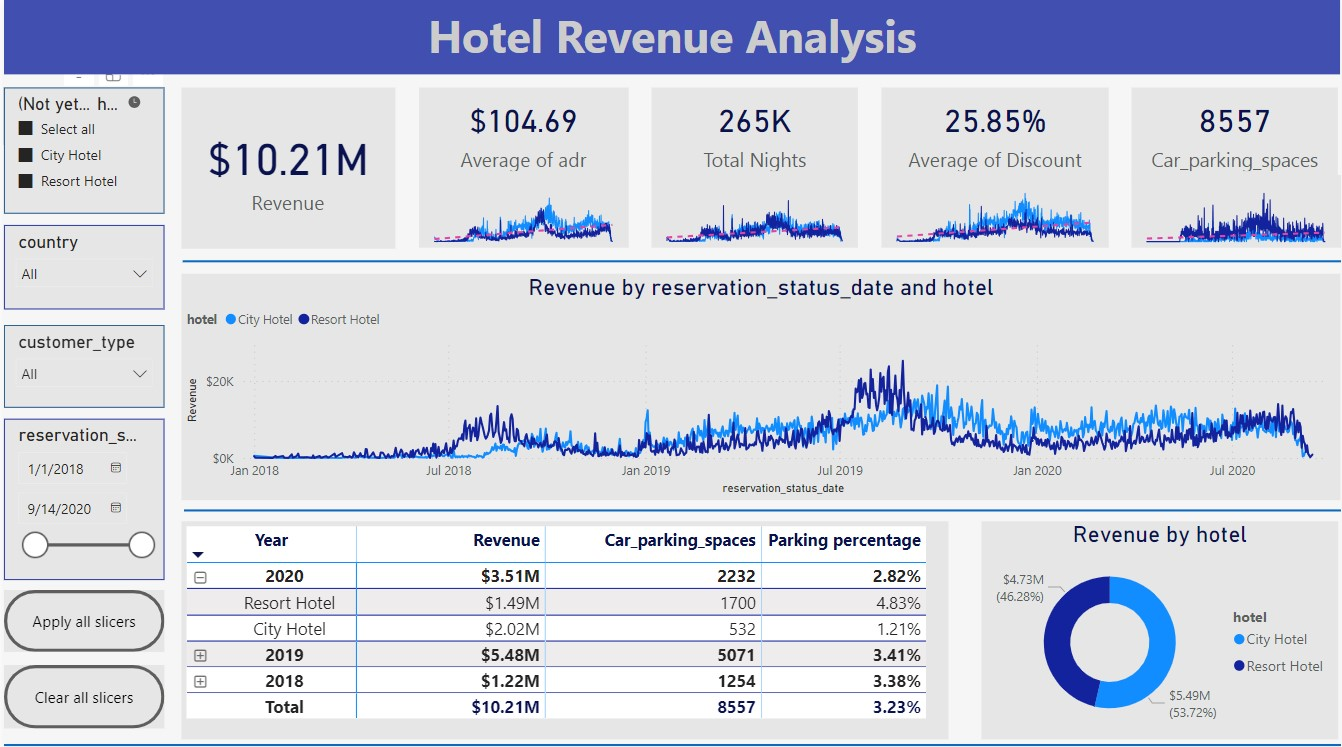

The dashboard page shown, as its layout file describes it:
{"tool":"powerbi","page":{"name":"Page 2","canvas":[1280,720],"ordinal":0},"visuals":[{"type":"shape","box":[170.8,238.1,1109.7,24.2],"z":0},{"type":"shape","box":[172.2,478.9,1108.4,20.2],"z":1000},{"type":"slicer","fields":{"Values":["Query2.country"]},"box":[0,215.2,153.3,80.7],"z":2000},{"type":"slicer","fields":{"Values":["Query2.hotel"]},"box":[0,83.4,153.3,121.1],"z":3000},{"type":"slicer","fields":{"Values":["Query2.reservation_status_date"]},"box":[0,400.8,153.3,154.7],"z":4000},{"type":"card","fields":{"Values":["Sum(Query2.Revenue)"]},"box":[169.5,83.4,204.5,154.7],"z":5000},{"type":"card","fields":{"Values":["Avg(Query2.adr)"]},"box":[396.8,83.4,200.4,84.7],"z":6000},{"type":"card","fields":{"Values":["Query2.Total Nights"]},"box":[620.1,83.4,197.7,84.7],"z":7000},{"type":"card","fields":{"Values":["Avg(Query2.Discount)"]},"box":[840.7,83.4,217.9,84.7],"z":8000},{"type":"textbox","box":[0,0,1279.1,71],"z":9000},{"type":"lineChart","fields":{"Category":["Query2.reservation_status_date"],"Y":["Sum(Query2.Revenue)"],"Series":["Query2.hotel"]},"box":[169.5,262.3,1109.7,216.6],"z":10000},{"type":"lineChart","fields":{"Category":["Query2.reservation_status_date"],"Series":["Query2.hotel"],"Y":["Sum(Query2.adr)"]},"box":[396.8,168.1,200.4,69.9],"z":11000},{"type":"lineChart","fields":{"Category":["Query2.reservation_status_date"],"Series":["Query2.hotel"],"Y":["Query2.Total Nights"]},"box":[620.1,168.1,197.7,69.9],"z":12000},{"type":"lineChart","fields":{"Category":["Query2.reservation_status_date"],"Series":["Query2.hotel"],"Y":["Sum(Query2.Discount)"]},"box":[840.7,168.1,217.9,69.9],"z":13000},{"type":"card","fields":{"Values":["Sum(Query2.required_car_parking_spaces)"]},"box":[1080.1,83.4,197.7,84.7],"z":14000},{"type":"lineChart","fields":{"Category":["Query2.reservation_status_date"],"Series":["Query2.hotel"],"Y":["Sum(Query2.required_car_parking_spaces)"]},"box":[1080.1,168.1,200.4,69.9],"z":15000},{"type":"donutChart","fields":{"Category":["Query2.hotel"],"Y":["Sum(Query2.Revenue)"]},"box":[936.2,499,341.7,208.5],"z":16000},{"type":"pivotTable","fields":{"Rows":["Query2.reservation_status_date.Variation.Date Hierarchy.Year","Query2.hotel"],"Values":["Sum(Query2.Revenue)","Sum(Query2.required_car_parking_spaces)","Query2.Parking percentage"]},"box":[169.5,499,734.4,208.5],"z":17000},{"type":"slicer","fields":{"Values":["Query2.customer_type"]},"box":[0,310.7,153.3,79.4],"z":18000},{"type":"actionButton","box":[0,564.9,153.3,59.2],"z":19000},{"type":"actionButton","box":[0,636.2,153.3,60.5],"z":20000},{"type":"shape","box":[0,707.5,1280.5,12.1],"z":21000}]}

Visuals, with their boxes in screenshot pixels (x1, y1, x2, y2), scaled from the page's 1280x720 canvas onto the 1342x747 screenshot:
shape: box=[179, 247, 1341, 272]
shape: box=[181, 497, 1341, 518]
slicer - Query2.country: box=[0, 223, 161, 307]
slicer - Query2.hotel: box=[0, 87, 161, 212]
slicer - Query2.reservation_status_date: box=[0, 416, 161, 576]
card - Sum(Query2.Revenue): box=[178, 87, 392, 247]
card - Avg(Query2.adr): box=[416, 87, 626, 174]
card - Query2.Total Nights: box=[650, 87, 857, 174]
card - Avg(Query2.Discount): box=[881, 87, 1110, 174]
textbox: box=[0, 0, 1341, 74]
lineChart - Query2.reservation_status_date x Sum(Query2.Revenue): box=[178, 272, 1341, 497]
lineChart - Query2.reservation_status_date x Query2.hotel: box=[416, 174, 626, 247]
lineChart - Query2.reservation_status_date x Query2.hotel: box=[650, 174, 857, 247]
lineChart - Query2.reservation_status_date x Query2.hotel: box=[881, 174, 1110, 247]
card - Sum(Query2.required_car_parking_spaces): box=[1132, 87, 1340, 174]
lineChart - Query2.reservation_status_date x Query2.hotel: box=[1132, 174, 1341, 247]
donutChart - Query2.hotel x Sum(Query2.Revenue): box=[982, 518, 1340, 734]
pivotTable - Query2.reservation_status_date.Variation.Date Hierarchy.Year x Query2.hotel: box=[178, 518, 948, 734]
slicer - Query2.customer_type: box=[0, 322, 161, 405]
actionButton: box=[0, 586, 161, 648]
actionButton: box=[0, 660, 161, 723]
shape: box=[0, 734, 1341, 746]
